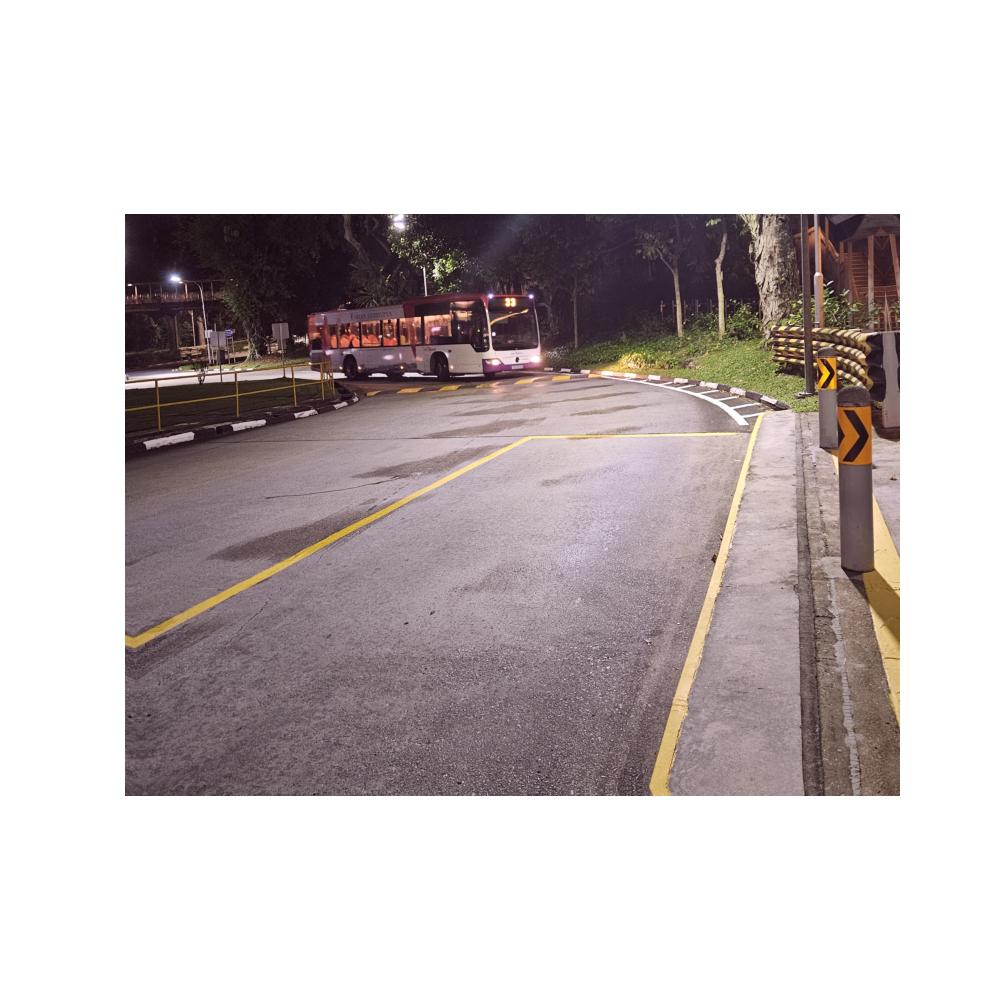bus: (306, 288, 545, 381)
